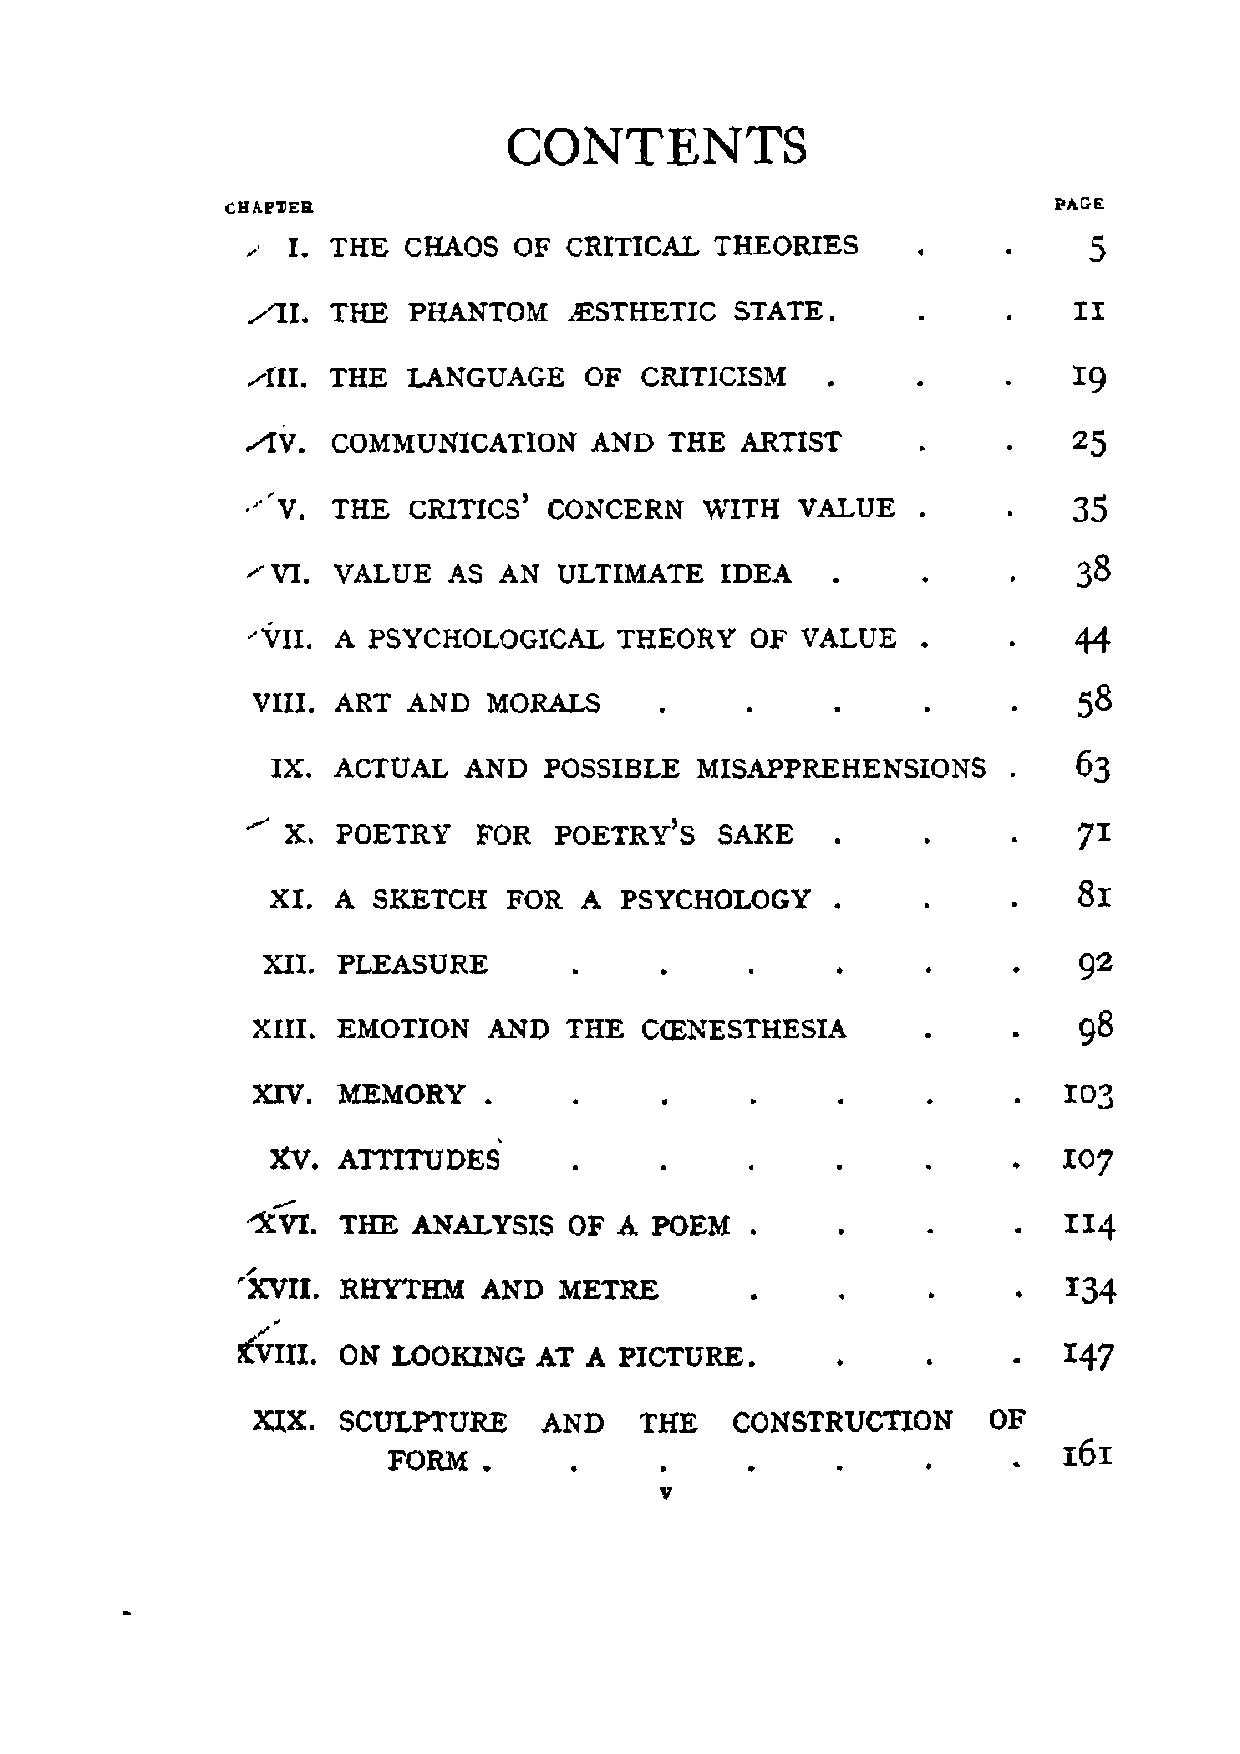TOC_chapter: (251, 1405, 1027, 1469), (266, 750, 986, 782), (274, 488, 917, 523), (258, 424, 844, 462), (264, 880, 820, 917), (255, 621, 905, 652), (250, 1012, 847, 1045), (275, 225, 860, 259), (272, 295, 831, 330), (262, 358, 790, 395), (276, 815, 794, 851), (234, 1339, 750, 1376), (260, 558, 798, 590), (252, 1208, 735, 1240), (242, 1270, 662, 1304), (254, 687, 612, 717), (267, 1141, 506, 1173), (258, 947, 490, 978), (247, 1079, 468, 1108)
TOC_pagenumber: (1060, 1206, 1121, 1243), (1060, 1334, 1111, 1372), (1074, 679, 1118, 721), (1066, 1266, 1111, 1304), (1057, 1141, 1111, 1173), (1066, 1078, 1113, 1114), (1062, 1435, 1115, 1465), (1075, 1009, 1117, 1048), (1071, 493, 1111, 530), (1067, 819, 1113, 851), (1070, 425, 1108, 462), (1074, 745, 1110, 782), (1074, 872, 1114, 906), (1074, 552, 1108, 589), (1074, 356, 1104, 396), (1078, 947, 1110, 982), (1080, 624, 1117, 655), (1087, 227, 1110, 267), (1068, 301, 1106, 322)
chapter: (499, 118, 811, 170)
